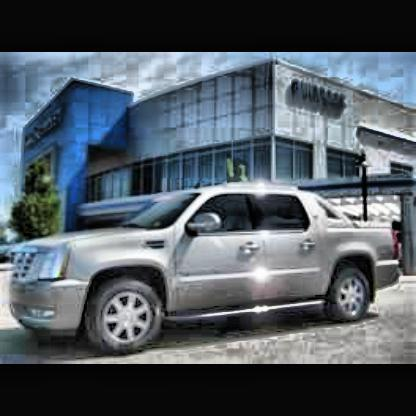Cadillac Escalade EXT Crew Cab 2007: (11, 190, 404, 358)
